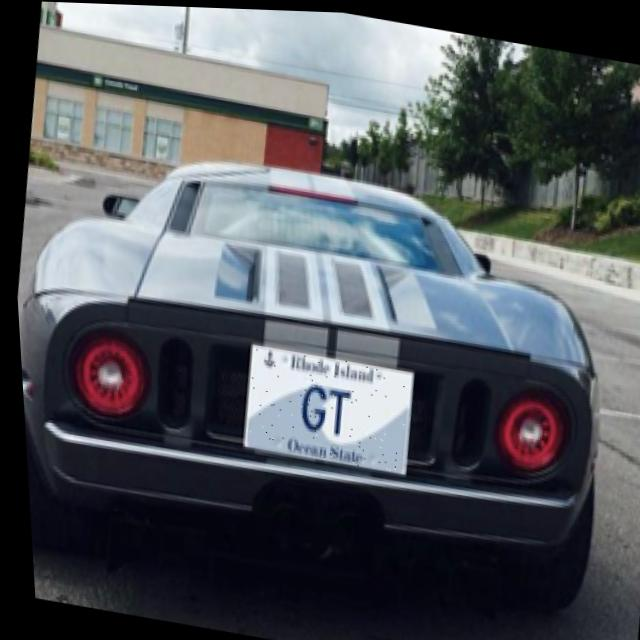license_plate: (234, 342, 413, 471)
